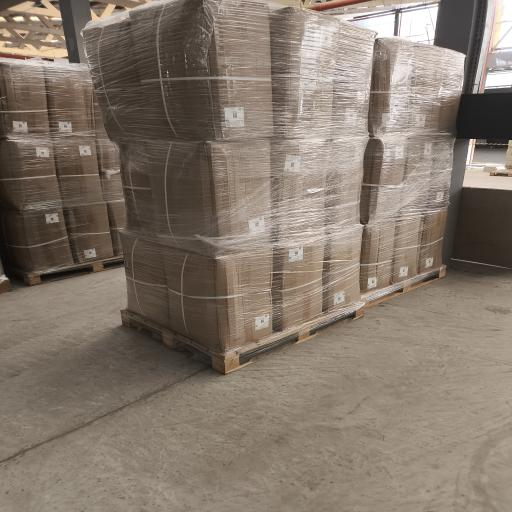pallet: (121, 309, 363, 374), (362, 266, 446, 308), (6, 256, 123, 285), (0, 277, 11, 293), (490, 170, 511, 176)
